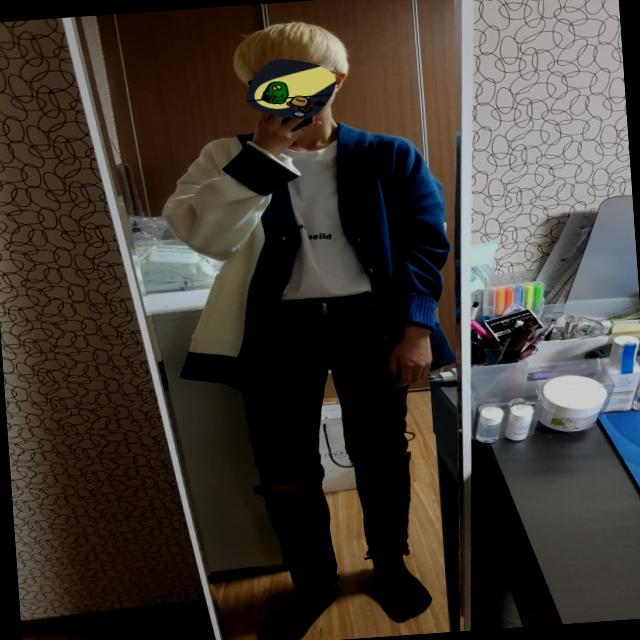cardigan: (158, 112, 458, 392)
denimpants: (236, 286, 421, 593)
